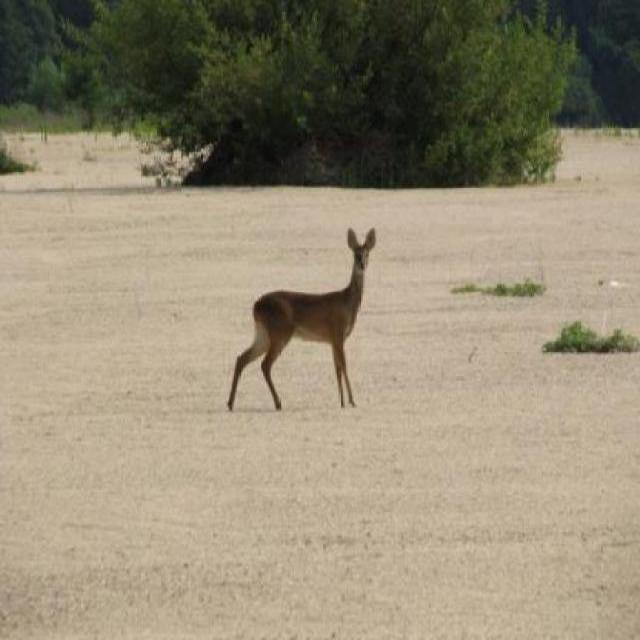deer: (216, 219, 387, 430)
